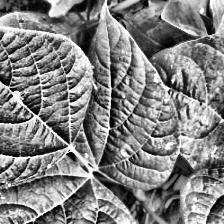Bean Rust: (76, 0, 177, 194), (0, 0, 91, 185), (159, 31, 224, 182), (0, 160, 141, 224)
